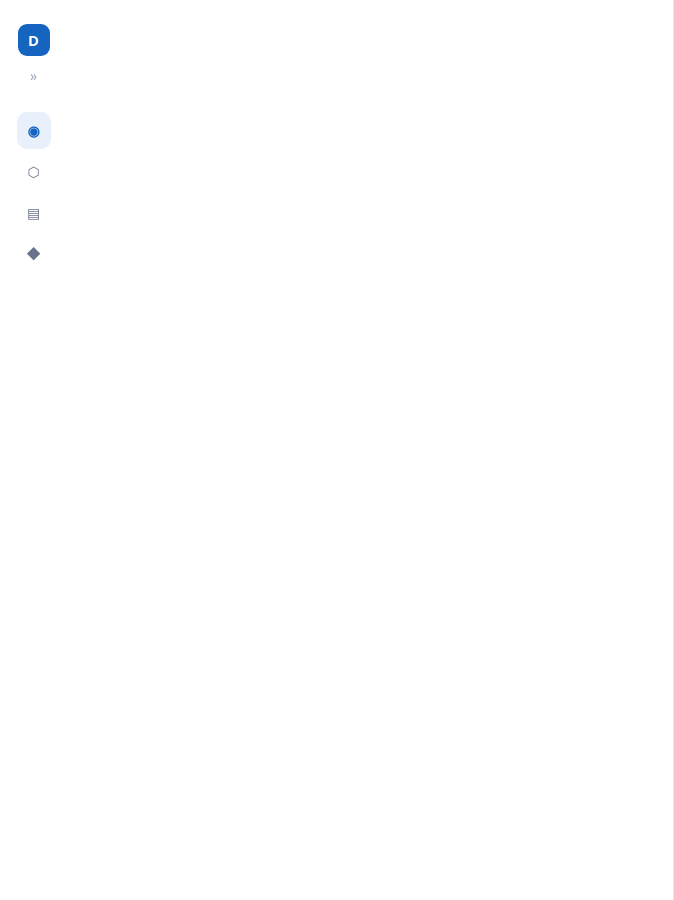
Scenario: collapsed to a rail › opens a group on keyboard focus, and Esc closes it
The image size is (674, 900).
Focus the button named "Workspace" at (34, 212), box [16,194,50,231]
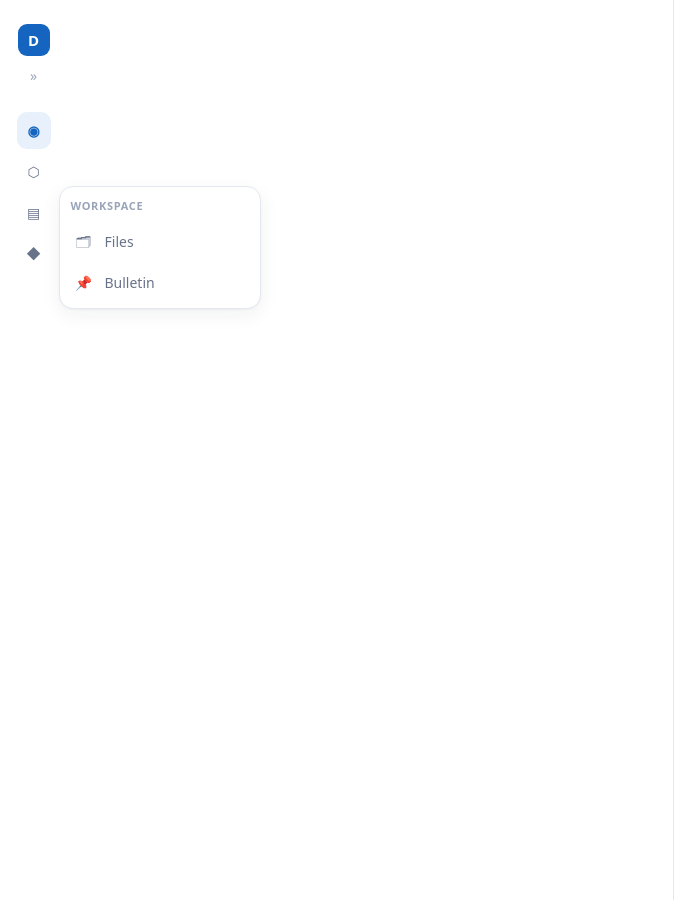
Result: the button "📌 Bulletin" is shown at [62,264,252,300]
Press Escape in the button named "Workspace", box [16,194,50,231]
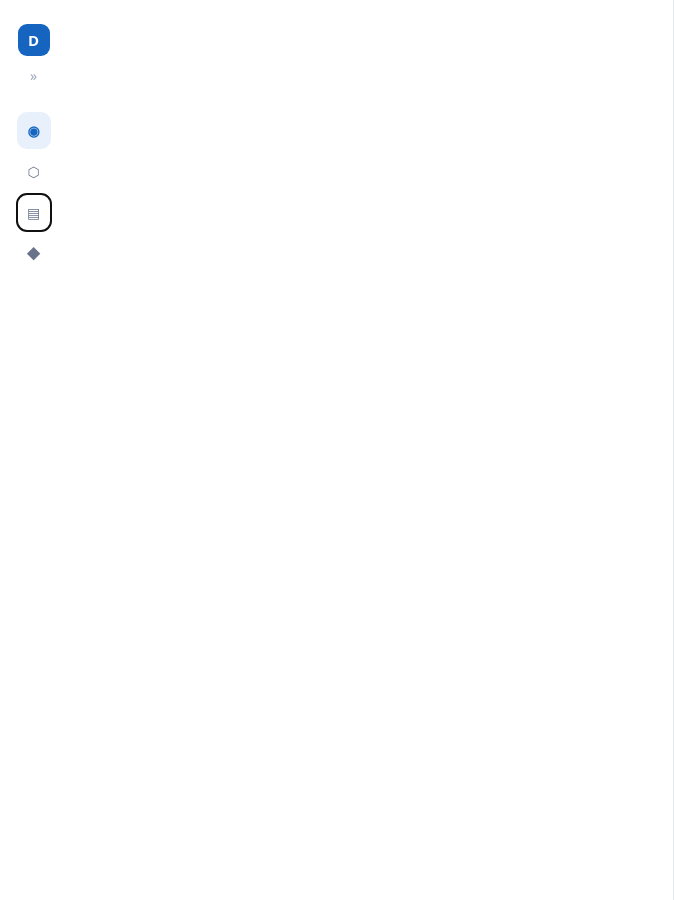
Result: the button "Bulletin" is gone
